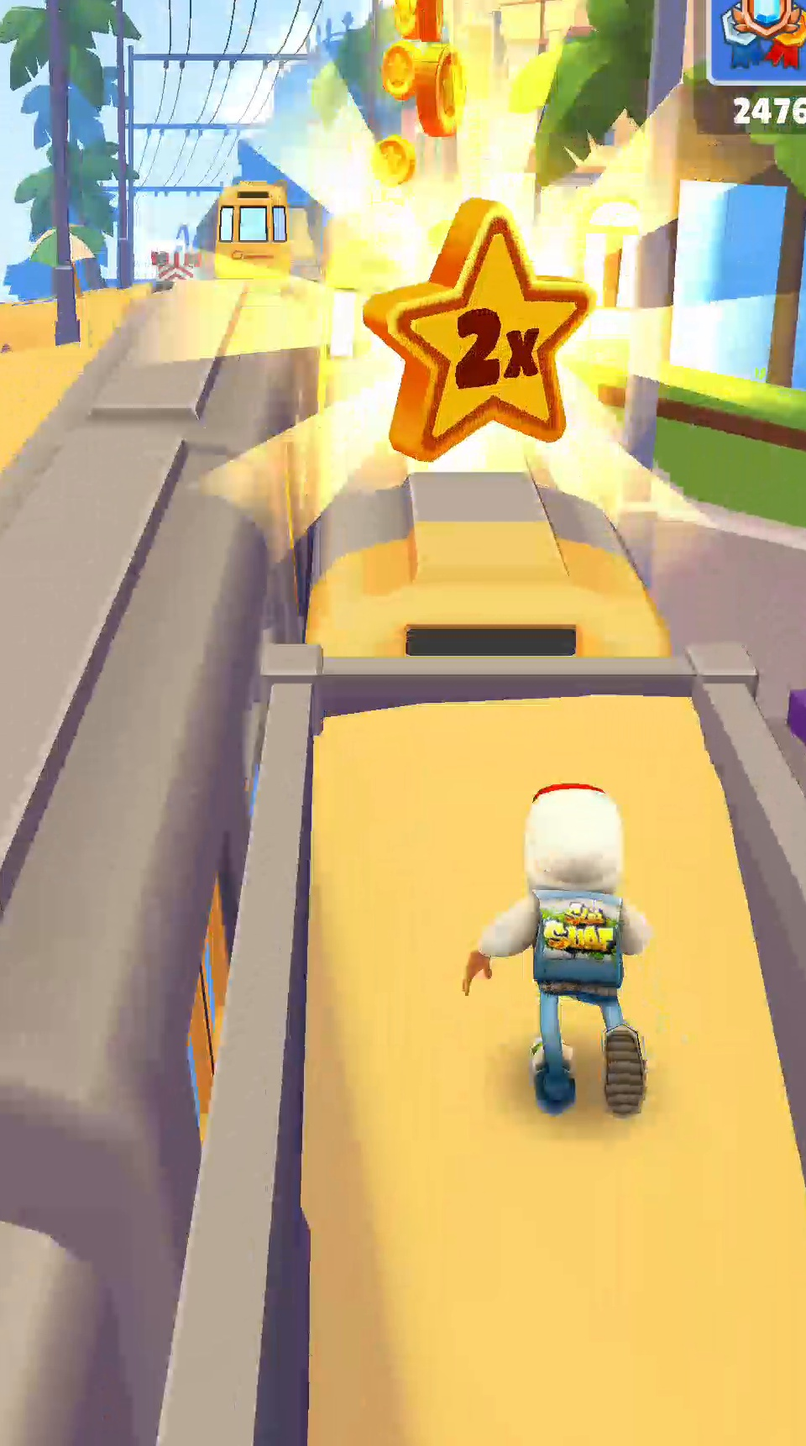climber: (303, 698, 805, 1445)
train: (216, 180, 295, 278)
